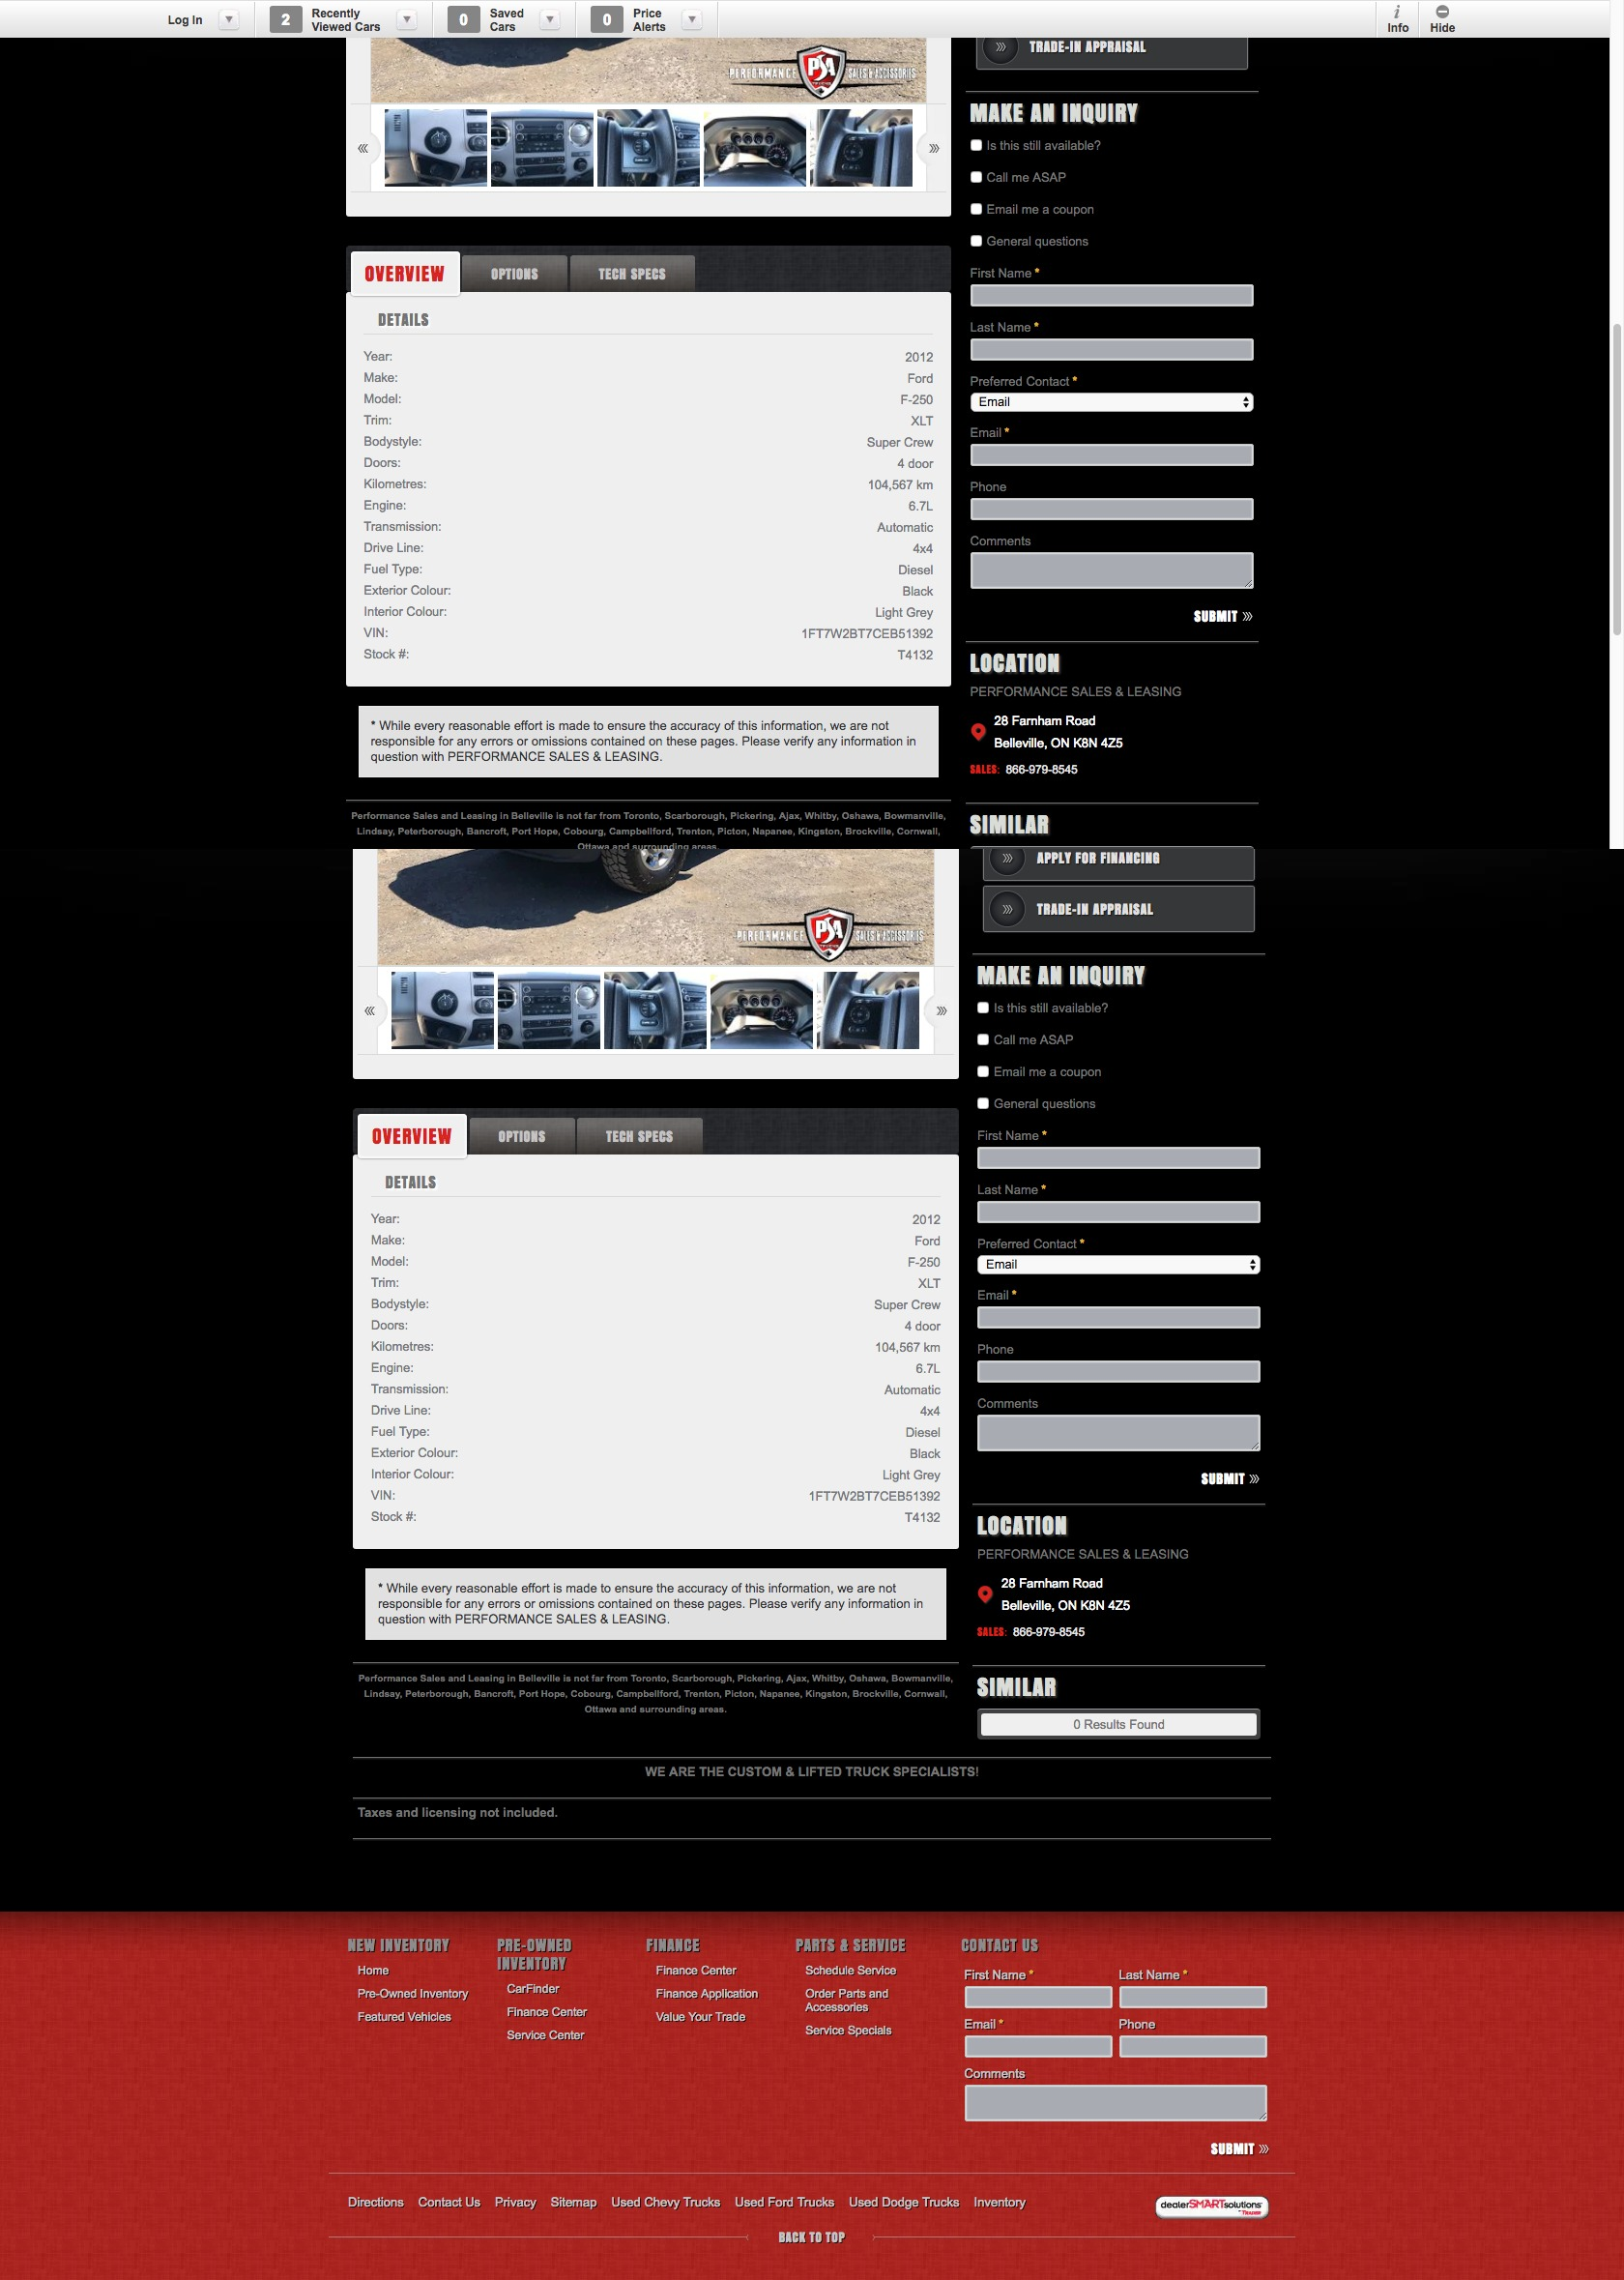car: (939, 1007, 947, 1016)
